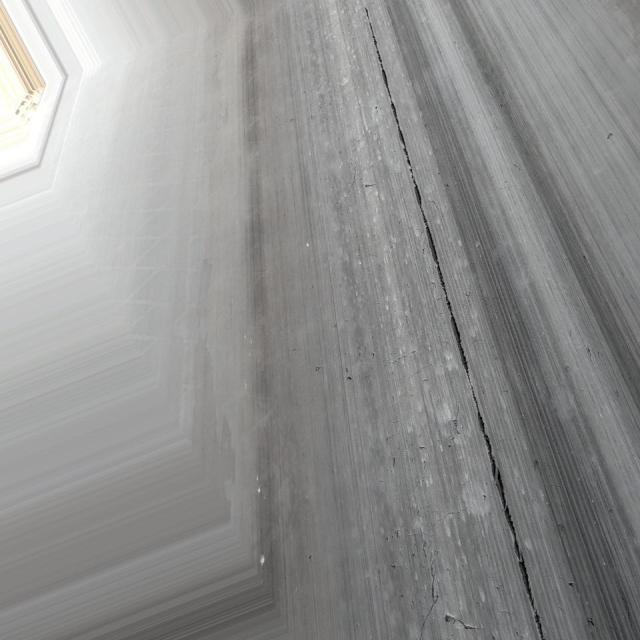Tear: (358, 3, 561, 635)
